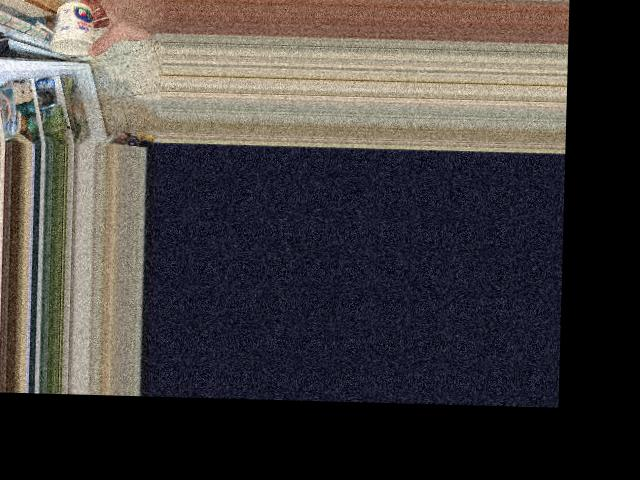cotage: (52, 1, 95, 61)
